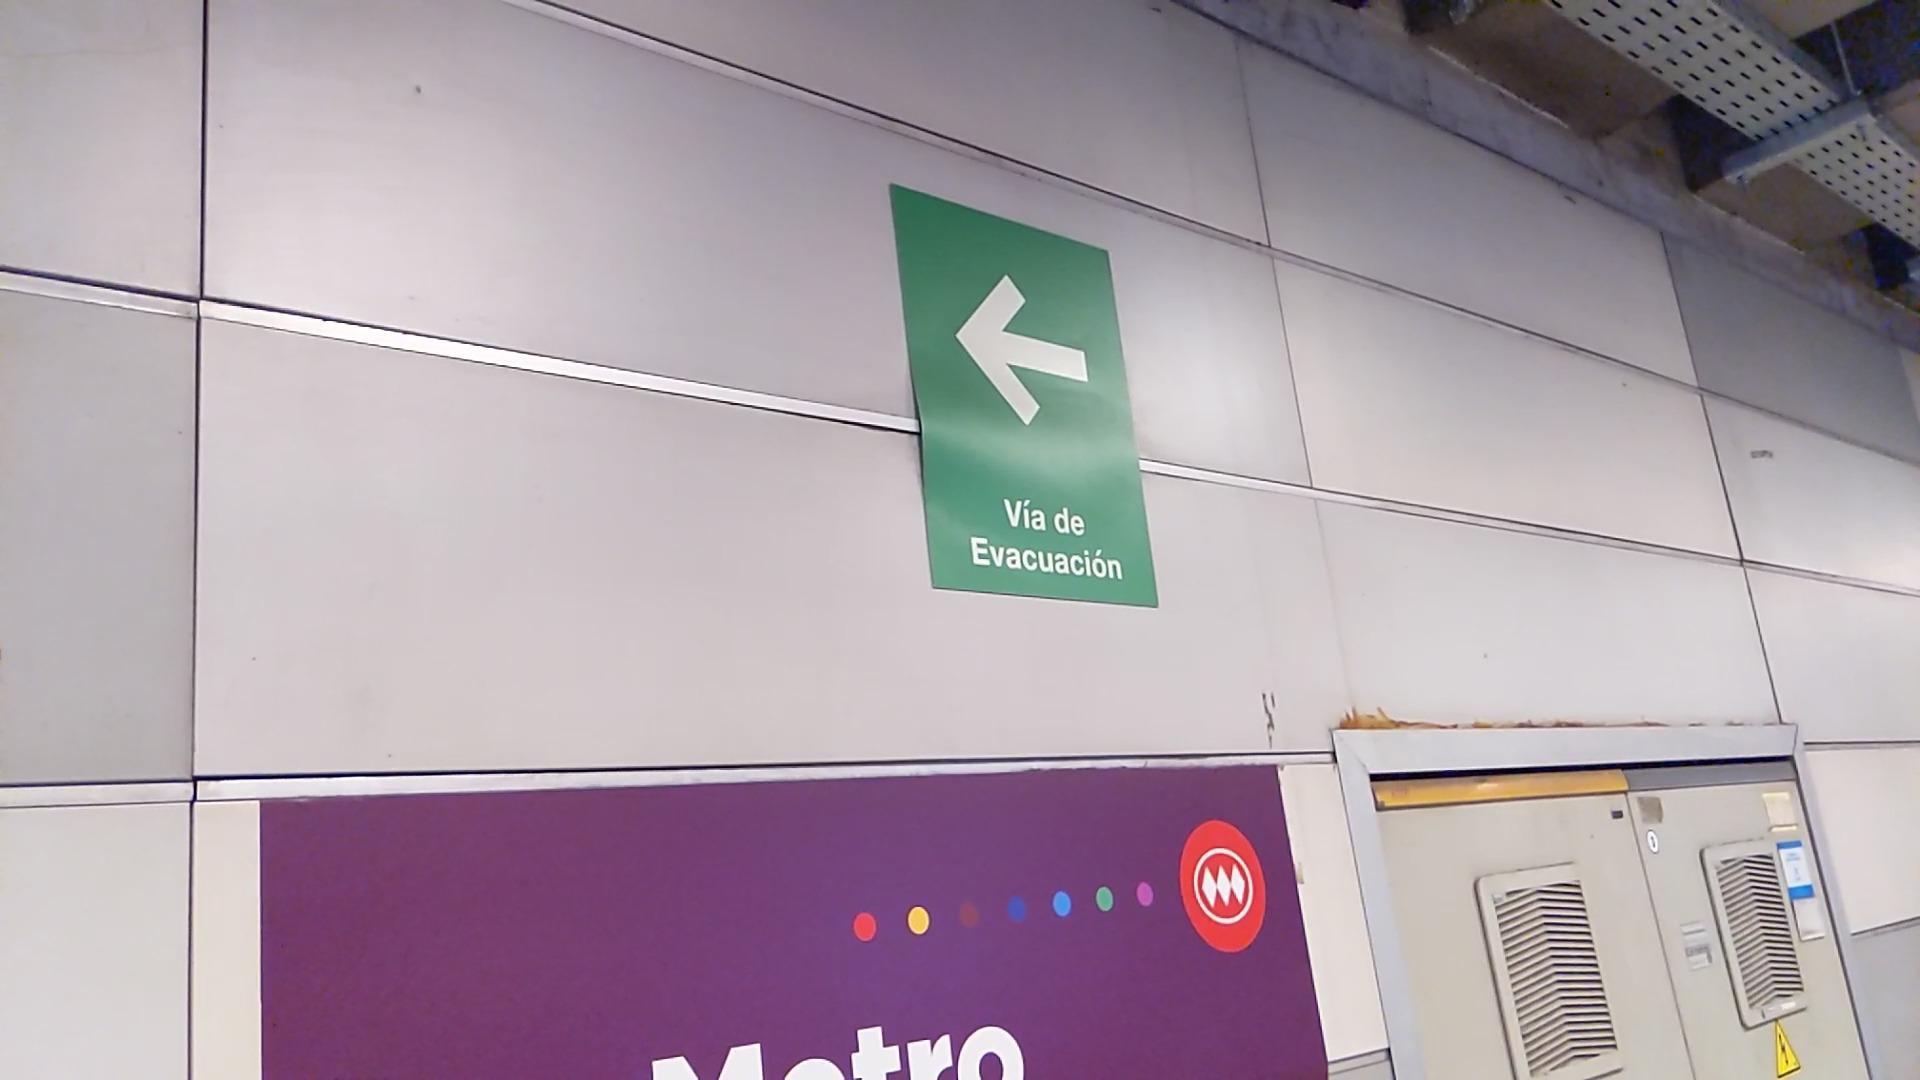emergency left arrow: (951, 272, 1093, 433)
